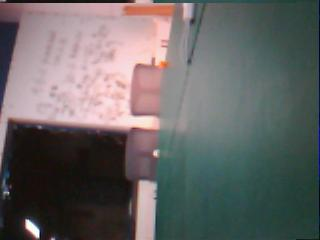oball: (159, 60, 167, 68)
